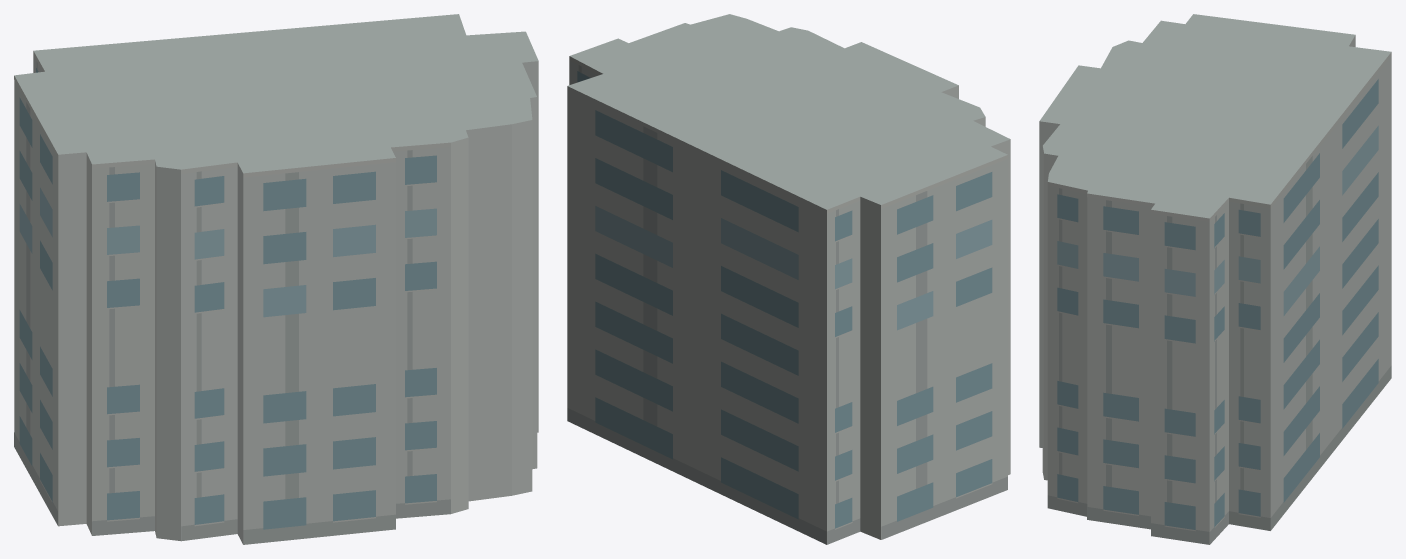
File: survey-upis-33012867.glb
3 renders of one model, left to right at view 1: azimuth 30°, elevation 25°; view 2: azimuth 150°, elevation 25°; view 3: azimuth 270°, elevation 25°, orthographic. The views are drawn at different scales.
Parts seen in each view (by area): view 1: survey-upis-33012867.tmp; view 2: survey-upis-33012867.tmp; view 3: survey-upis-33012867.tmp.
Boxes of the visible parts, x1,y1,x2,y2 form: survey-upis-33012867.tmp: (14, 14, 538, 544); survey-upis-33012867.tmp: (567, 14, 1010, 544); survey-upis-33012867.tmp: (1039, 14, 1391, 544).
Size of the model in its own units: 27.82 by 20.7 by 20.26.
